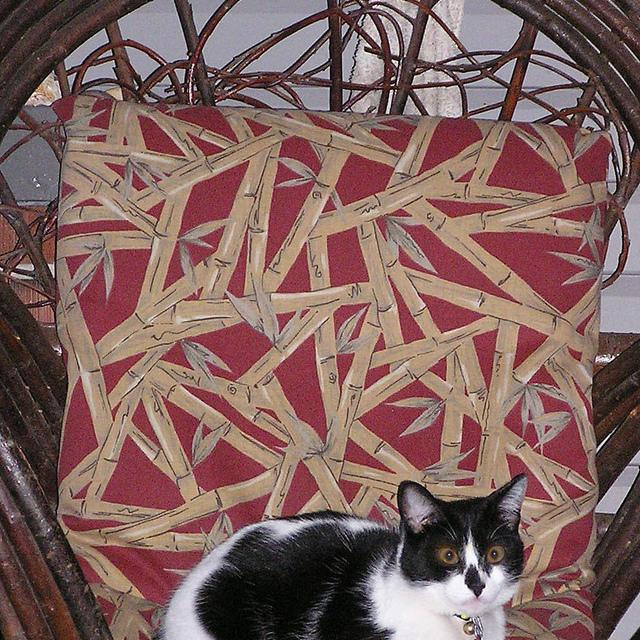animals: (406, 474, 524, 589)
